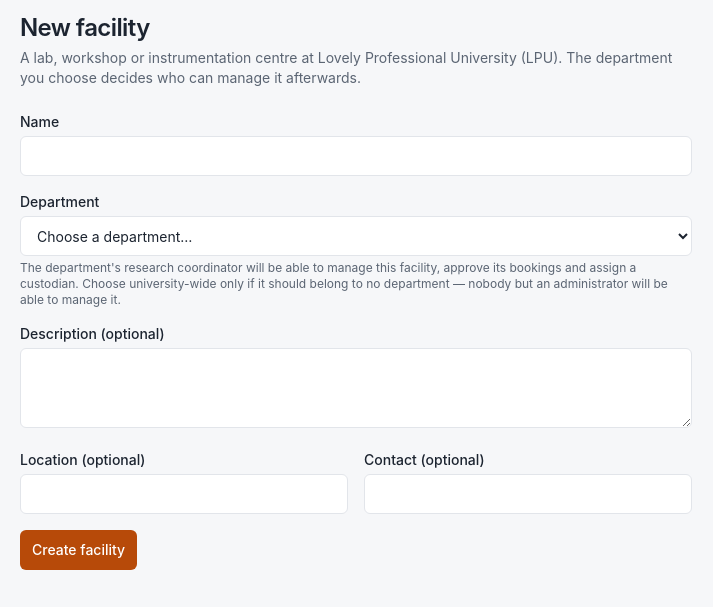
Test: FacilityFormPage › refuses to submit until a department is actually chosen
In the field labelled "Name": (356, 156) [20, 136, 692, 176], type "First Lab"
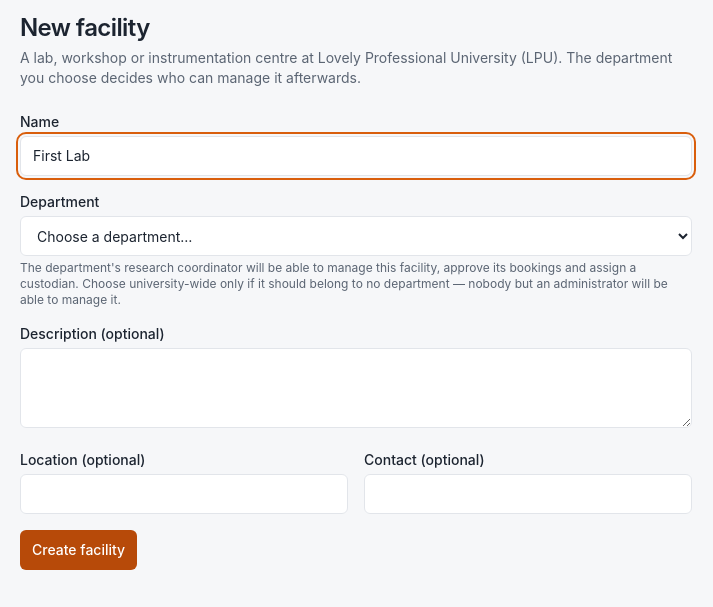
Click the button "Create facility": (79, 550) [20, 530, 137, 570]
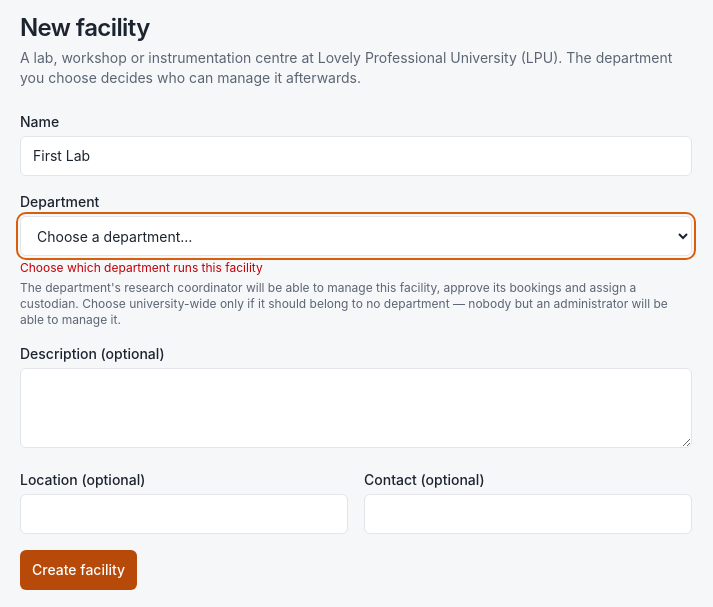
Expected: the text "Choose which department runs this facility" is shown, [20, 260, 263, 275]
